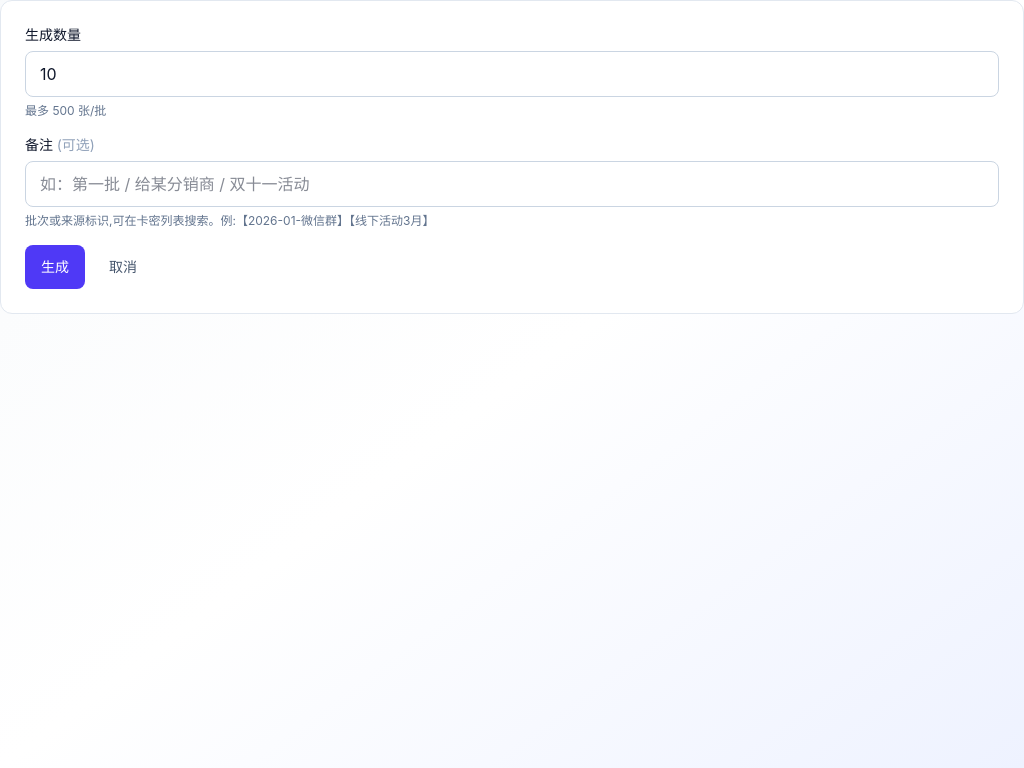
Test: <NewCardClient /> › 实际创建数少于请求数时显示部分成功提示
Click the button "生成": (55, 267) left=25, top=245, right=85, bottom=289
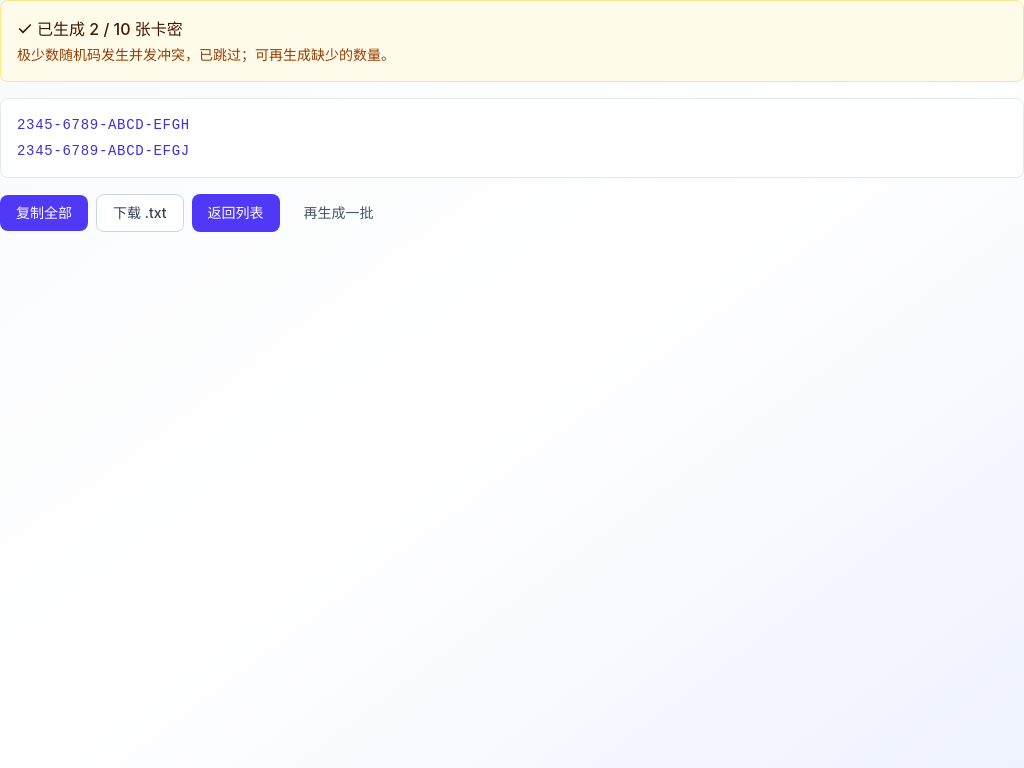
Expected: the text "已生成 2 / 10 张卡密" is shown, left=17, top=17, right=183, bottom=41
Expected: the text "极少数随机码发生并发冲突，已跳过；可再生成缺少的数量。" is shown, left=17, top=46, right=395, bottom=63
